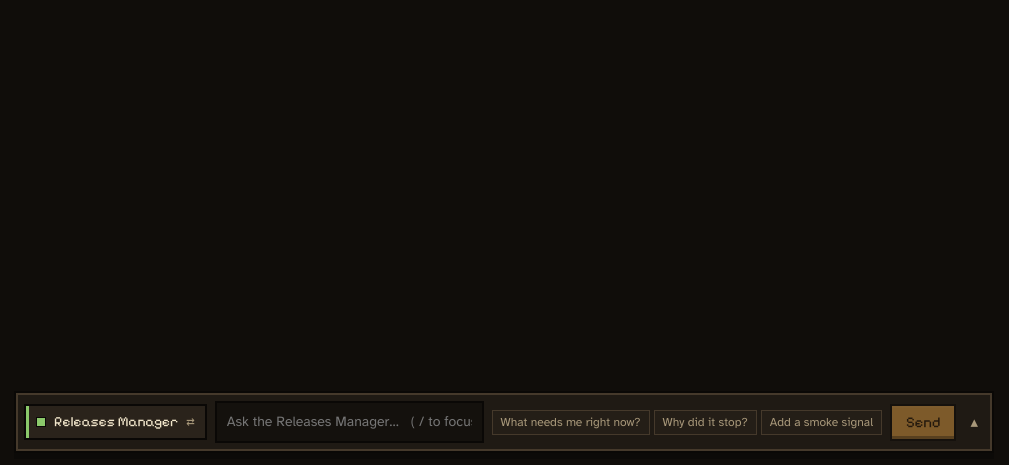
Test case: A manager's proposals › tells you a proposal was already dealt with, and offers no buttons
Click the button named "Show conversation".
click(974, 422)  # box left=964, top=410, right=984, bottom=435
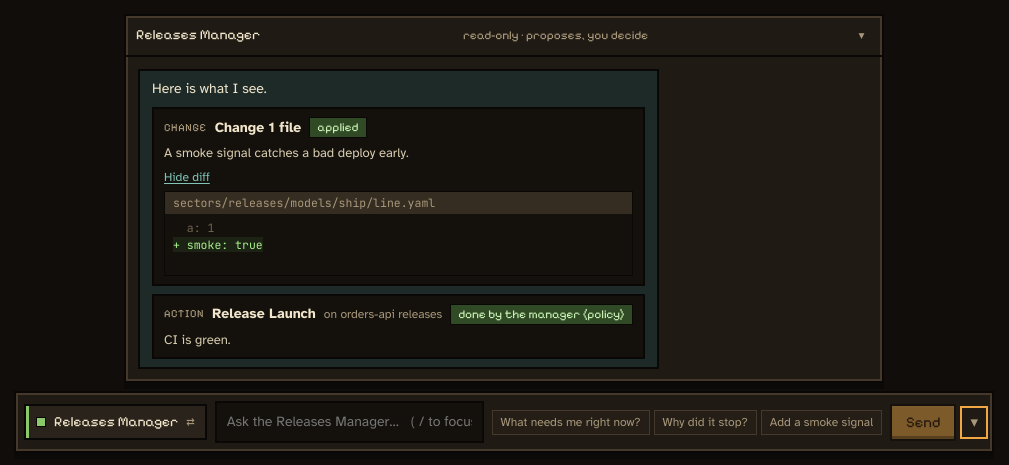
Expected: the text "applied" is shown, left=309, top=117, right=366, bottom=138
Expected: the text "done by the manager (policy)" is shown, left=450, top=304, right=632, bottom=325
